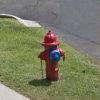Hydrant: (32, 23, 73, 79)
